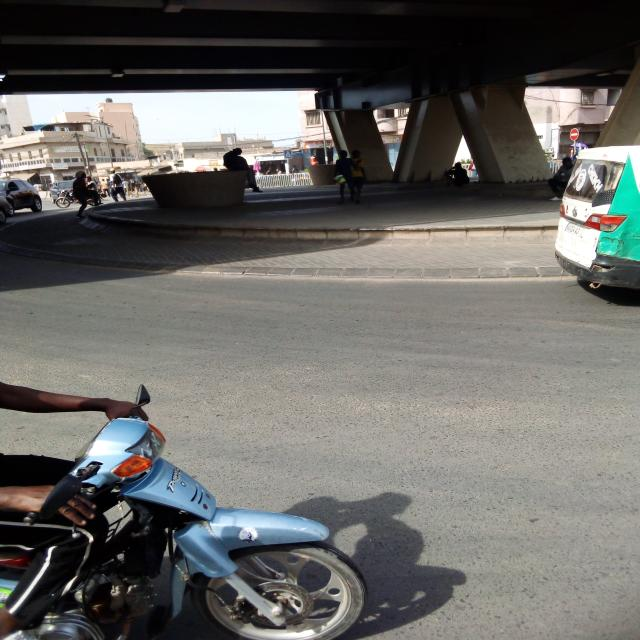moto: (1, 419, 368, 640)
particulier: (556, 146, 640, 290), (1, 180, 43, 214)
